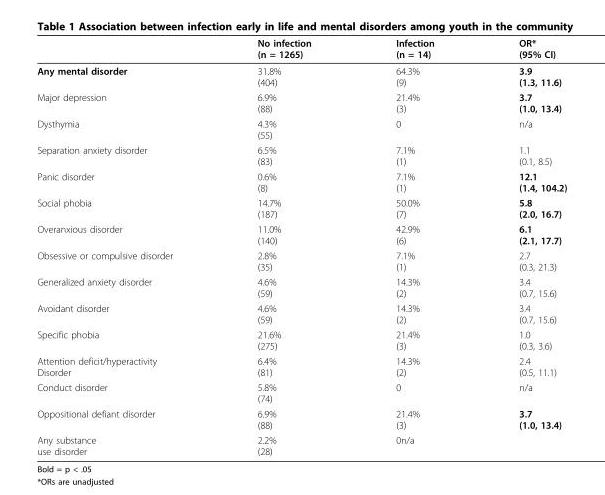table: (36, 36, 566, 456)
table column: (36, 36, 214, 456), (214, 36, 352, 456), (352, 36, 475, 456), (475, 36, 566, 456)
table column header: (36, 36, 566, 62)
table row: (36, 62, 566, 89), (36, 115, 566, 142), (36, 194, 566, 221), (36, 273, 566, 300), (36, 326, 566, 353), (36, 405, 566, 432), (36, 36, 566, 62), (36, 89, 566, 115), (36, 142, 566, 168), (36, 168, 566, 194), (36, 221, 566, 247), (36, 247, 566, 273), (36, 300, 566, 326), (36, 353, 566, 379), (36, 379, 566, 405), (36, 432, 566, 456)
